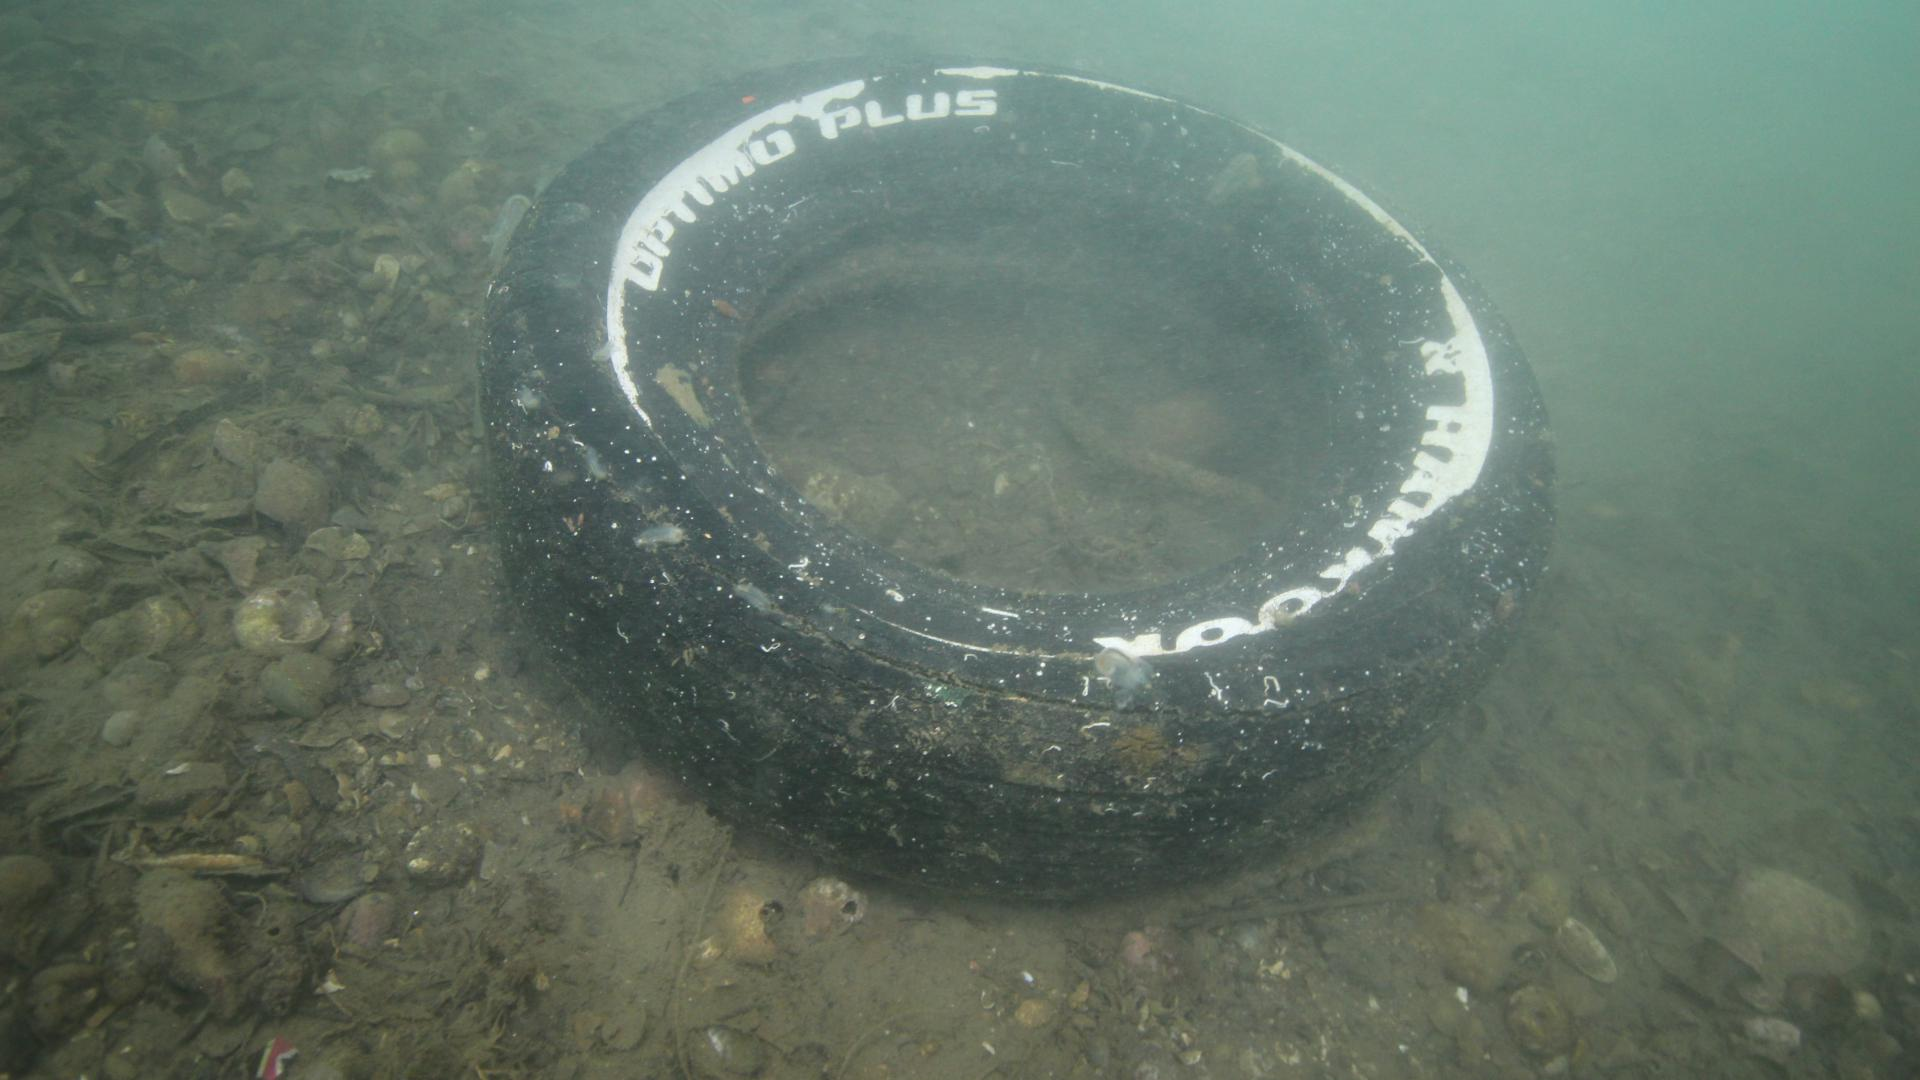tire: (473, 50, 1553, 898)
